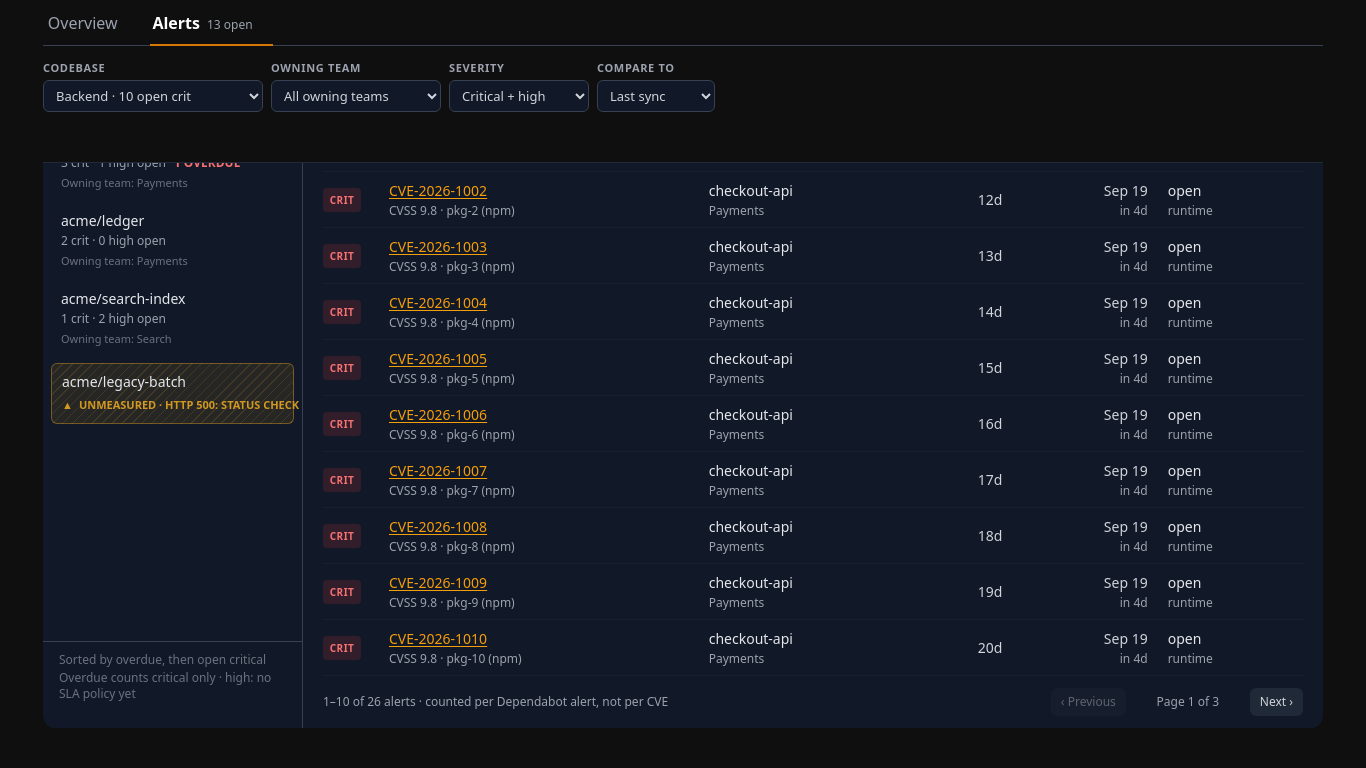
Scenario: paging, sorting and the list parameters › the last page shows the remainder, and the list area keeps its 560px
The width and height of the screenshot is (1366, 768).
(page scrolled)
Click the button "Next ›" at (1276, 702), box [1250,688,1303,716]
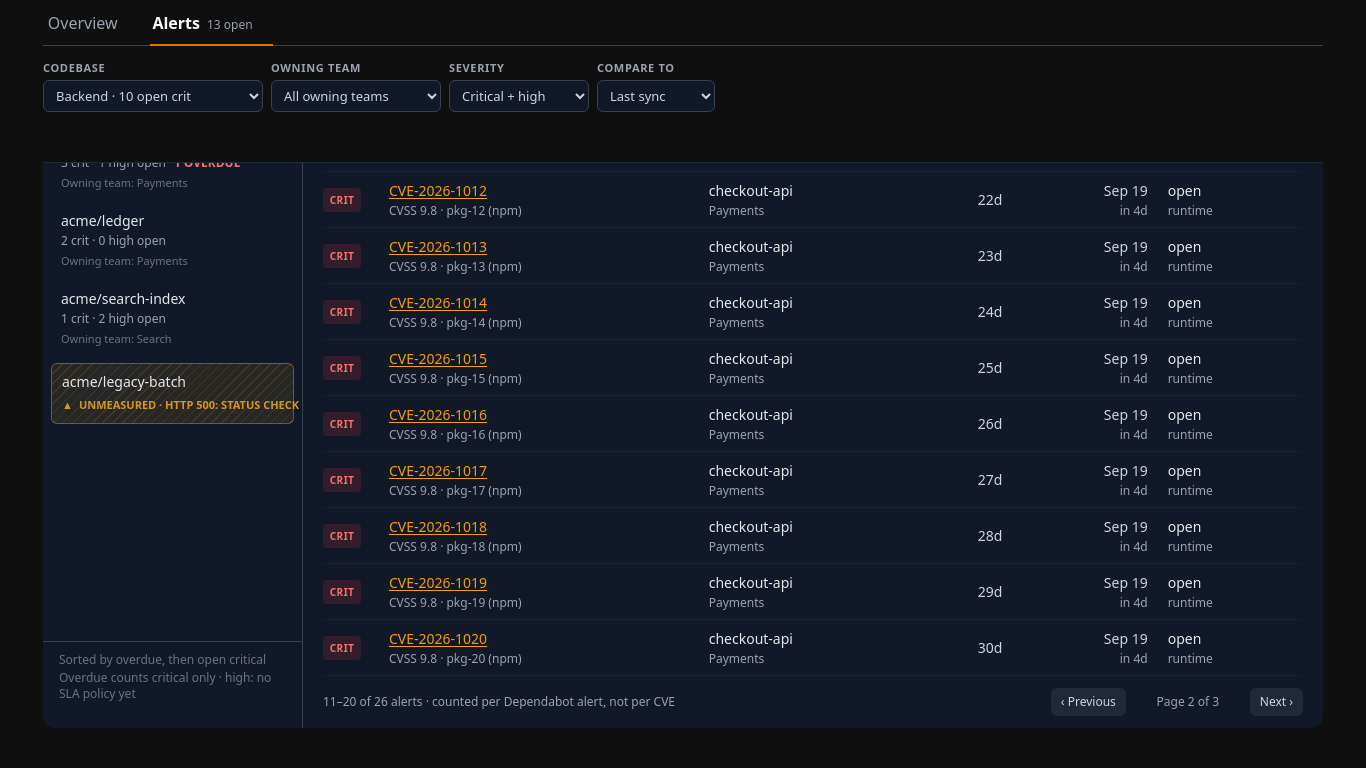
Click the button "Next ›" at (1276, 702), box [1250,688,1303,716]
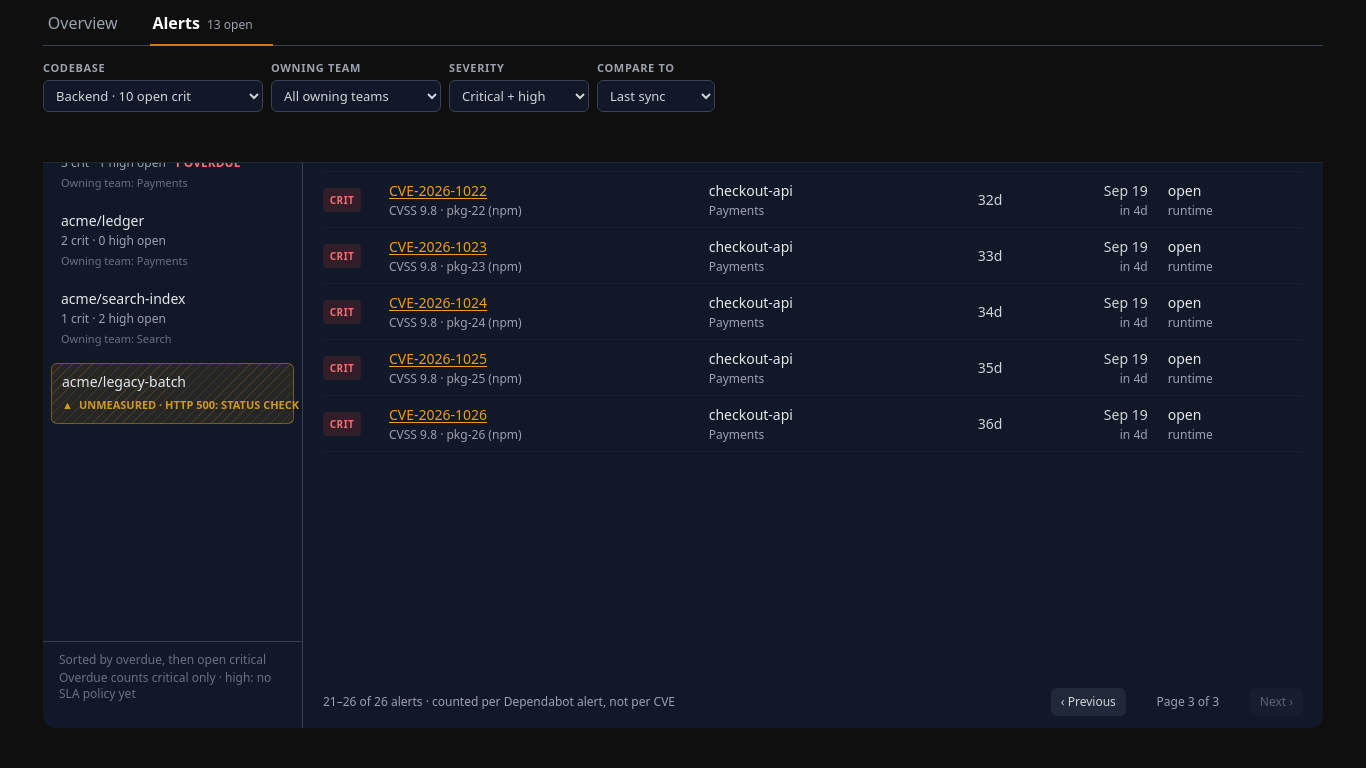
Check: the element with test id "alert-pager" shows "21–26 of 26 alerts", box [323,693,675,710]
